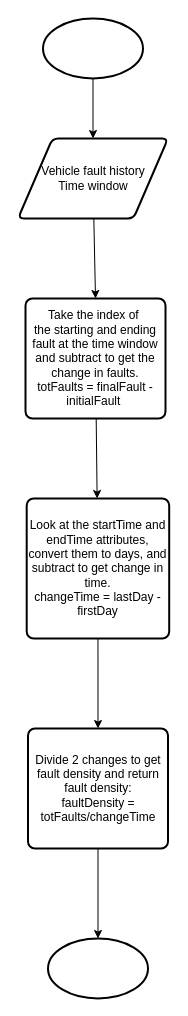
Some shapes in this 188 by 1016 pixel diagram are drawn without their labels. Here are the shapes that lost their labels. From the top down, the box of each, then its label:
(42, 17, 144, 79): Start
(46, 937, 148, 999): End
